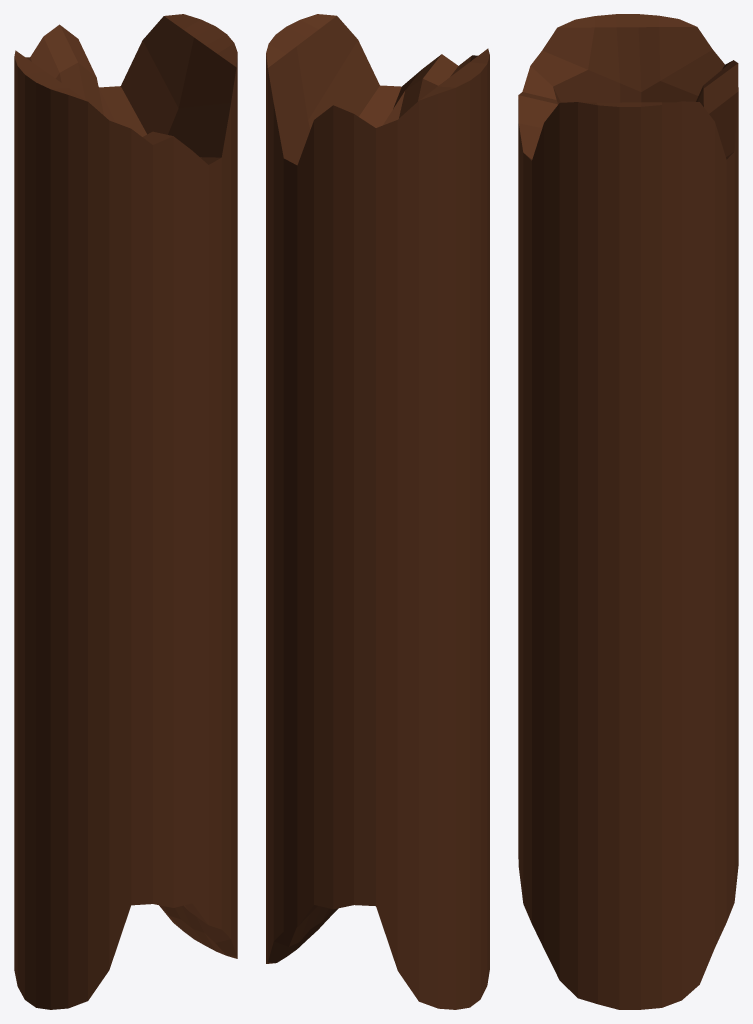
Rendered from Log.fbx.
3 views of the same model, side by side, from view 1: azimuth 30°, elevation 25°; view 2: azimuth 150°, elevation 25°; view 3: azimuth 270°, elevation 25° (orthographic).
Parts seen in each view (by area): view 1: Cylinder; view 2: Cylinder; view 3: Cylinder.
Part boxes in pixels (x1=…): Cylinder: x1=14, y1=14, x2=237, y2=1009; Cylinder: x1=266, y1=14, x2=489, y2=1009; Cylinder: x1=518, y1=14, x2=738, y2=1009.
Bounding box in the file's own units: 199 × 914 × 199.
